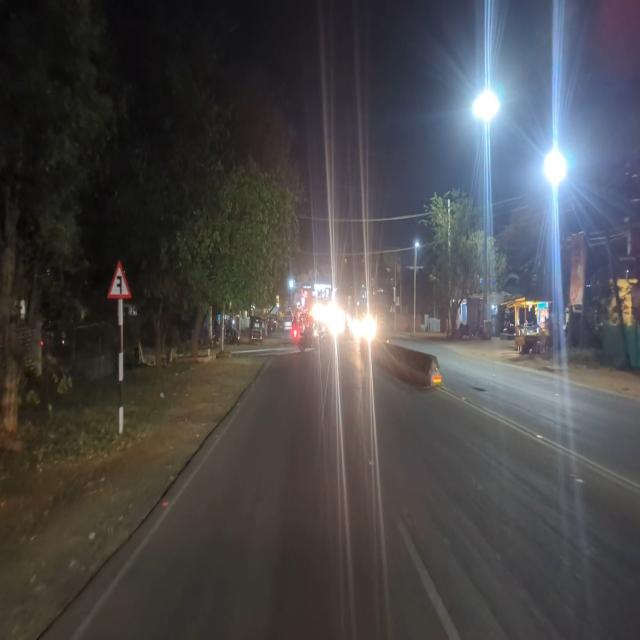bien_cam: (107, 260, 132, 300)
